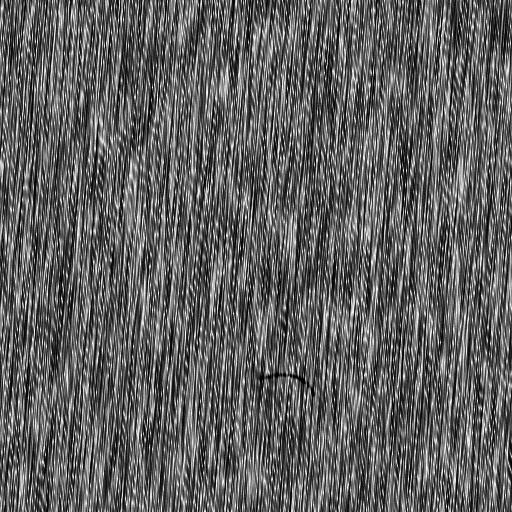DefectTypeC: (261, 371, 318, 396)
